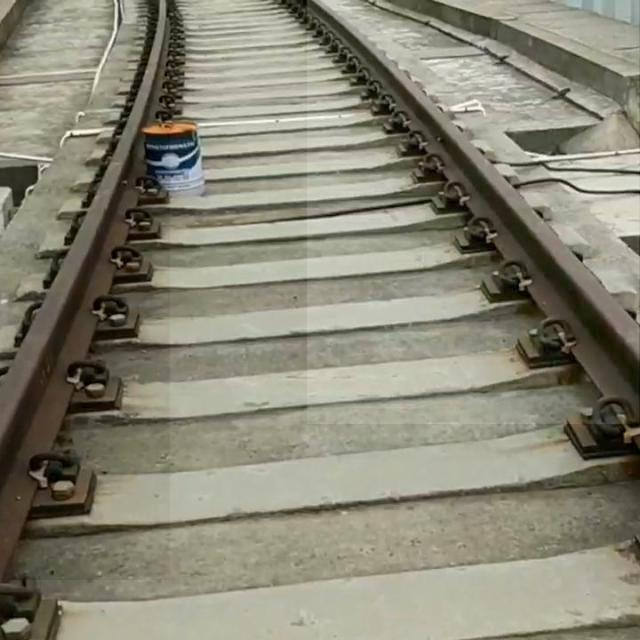rail: (308, 1, 640, 425), (2, 1, 171, 581)
